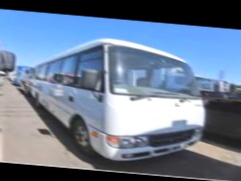bus: (15, 30, 212, 170)
